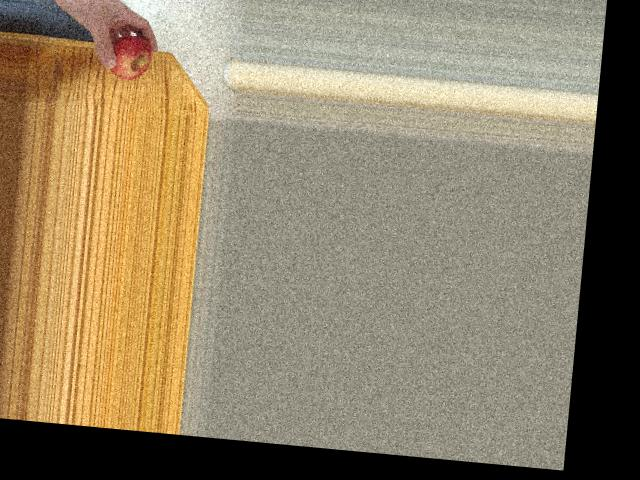apple: (104, 32, 155, 79)
